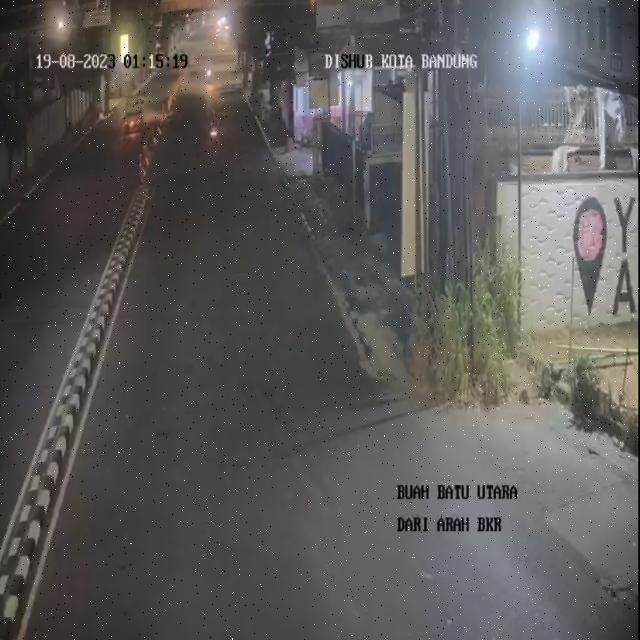motorcycle: (206, 102, 223, 150)
